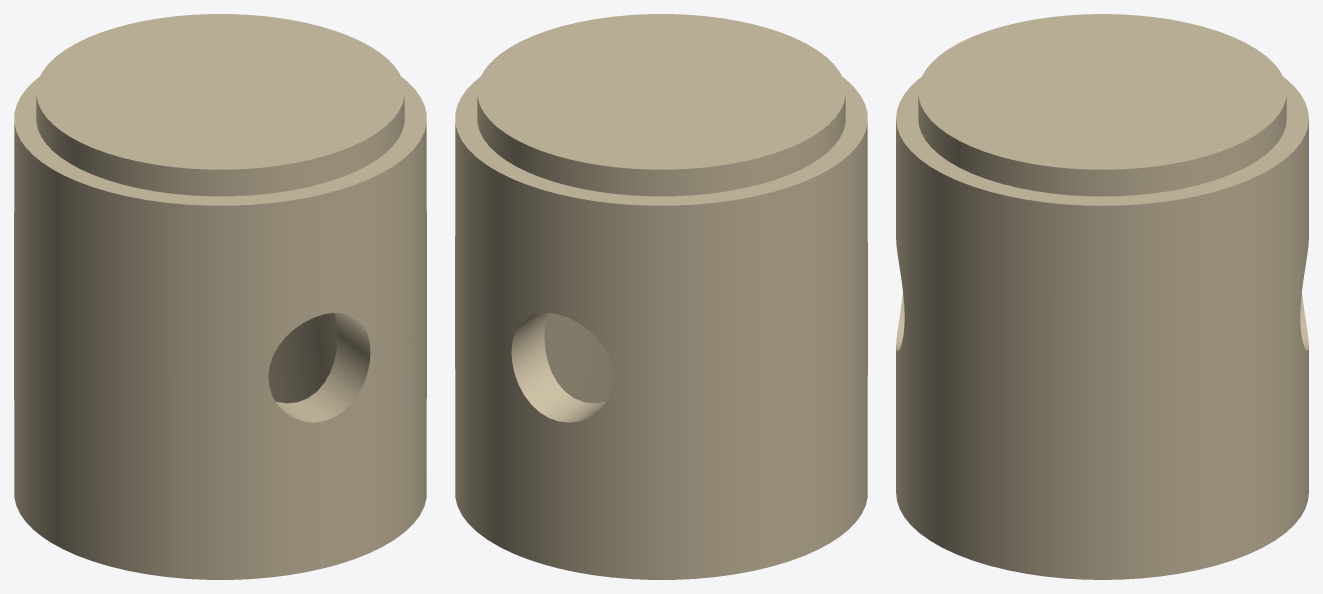
The model's file is Kolben.glb.
3 views of the same model, side by side, from view 1: azimuth 30°, elevation 25°; view 2: azimuth 150°, elevation 25°; view 3: azimuth 270°, elevation 25° (orthographic).
Parts seen in each view (by area): view 1: Body1; view 2: Body1; view 3: Body1.
Boxes of the visible parts, x1,y1,x2,y2 form: Body1: (14, 14, 426, 579); Body1: (455, 14, 867, 579); Body1: (896, 14, 1308, 579).
Size of the model in its own units: 0.014 by 0.015 by 0.014.
